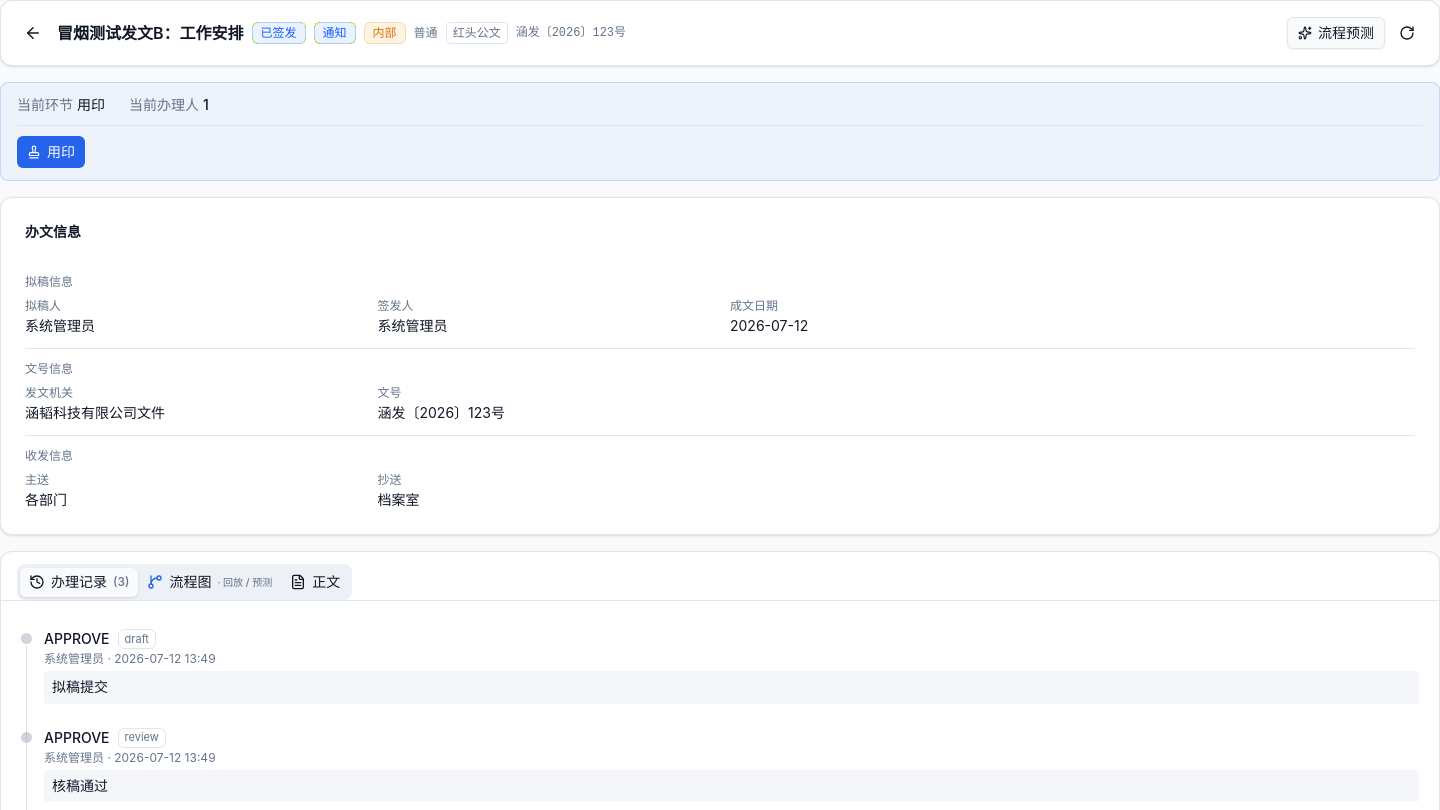
Scenario: 公文办文单套基座（阶段 D） › 流程图增强在公文里显示：FlowViewer(GRAPH) 逐节点办理信息 + 回放 + 预测运行
Expected: the heading "冒烟测试发文B：工作安排" is shown, [57,21,244,45]
Click the tab "流程图 · 回放 / 预测": (210, 582) [138,568,281,596]
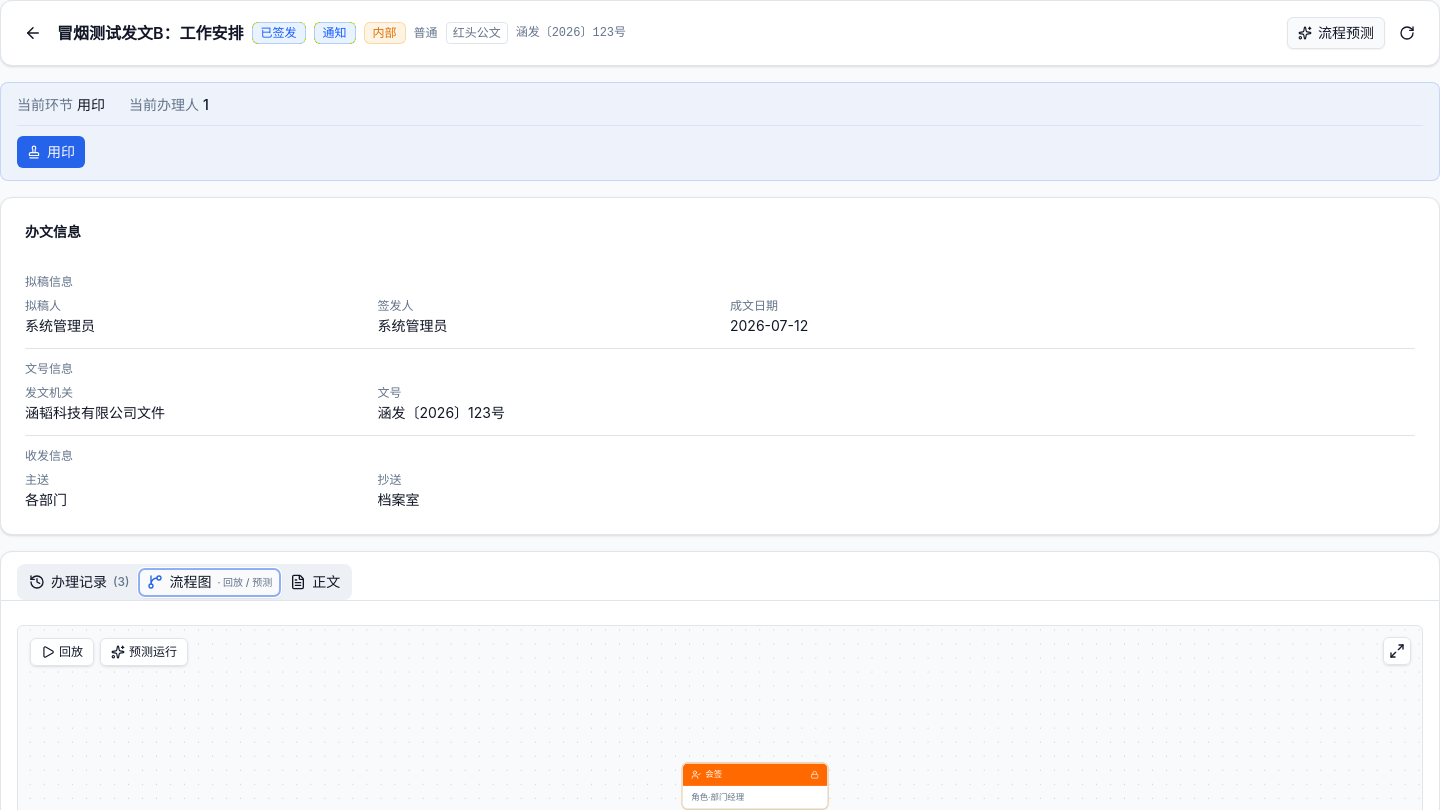
Expected: the text "系统管理员" below "拟稿人" is shown, [25,317,95,334]
Expected: the button "回放" is shown, [30,638,94,666]
Expected: the button "预测运行" is shown, [100,638,188,666]
